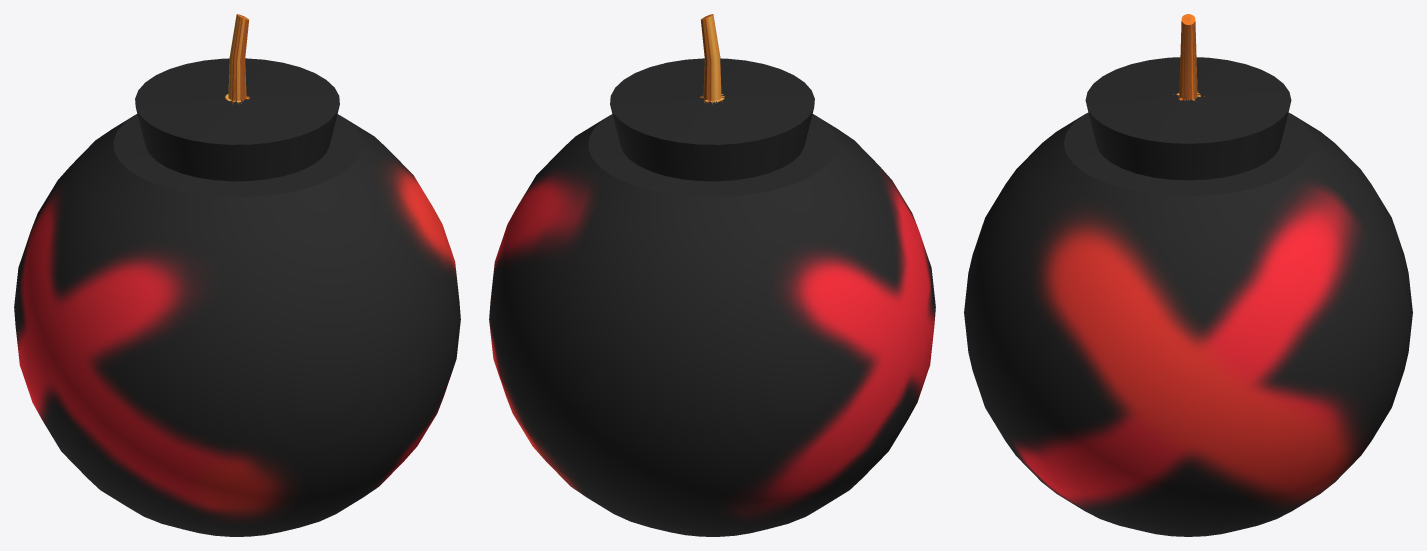
Rendered from Bomb.glb.
3 renders of one model, left to right at view 1: azimuth 30°, elevation 25°; view 2: azimuth 150°, elevation 25°; view 3: azimuth 270°, elevation 25°, orthographic.
Parts seen in each view (by area): view 1: Bomb; view 2: Bomb; view 3: Bomb.
Part boxes in pixels (x1,y1,x2,y2): Bomb: (14, 14, 460, 536); Bomb: (489, 14, 935, 536); Bomb: (964, 14, 1412, 536).
Bounding box in the file's own units: 0.4445 × 0.5487 × 0.4445.
1 material, 1 textured.
